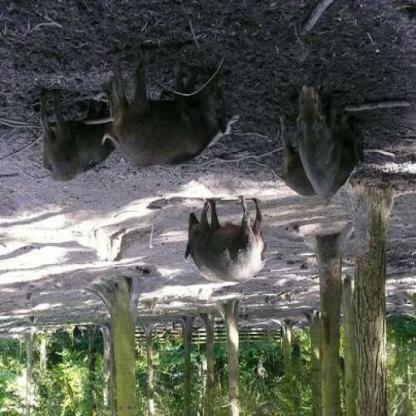boar: (157, 174, 268, 282)
